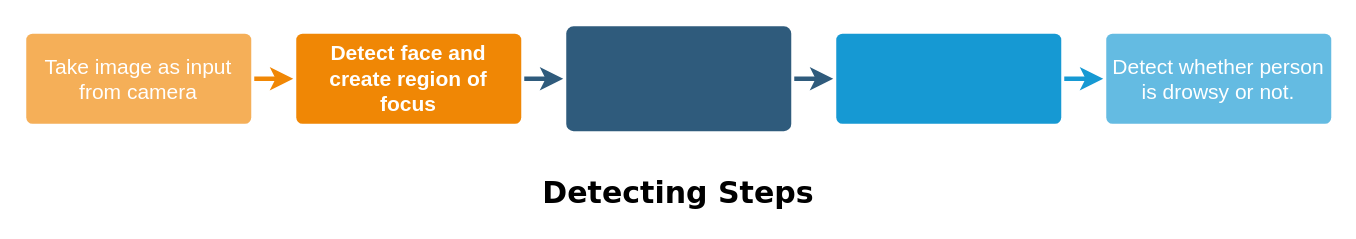
Image size: 1356x239. Some labels were removed from this diagram. The centre of each missing label's shape, as x and y in pixels:
"Categorize whether eyes are open or closed" belongs at (948,78).
"Detect the eyes" belongs at (678,78).
